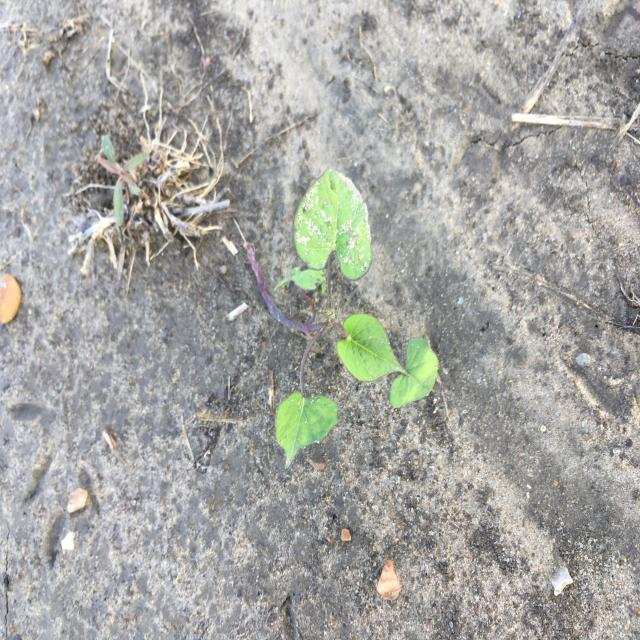MorningGlory: (244, 166, 439, 471)
